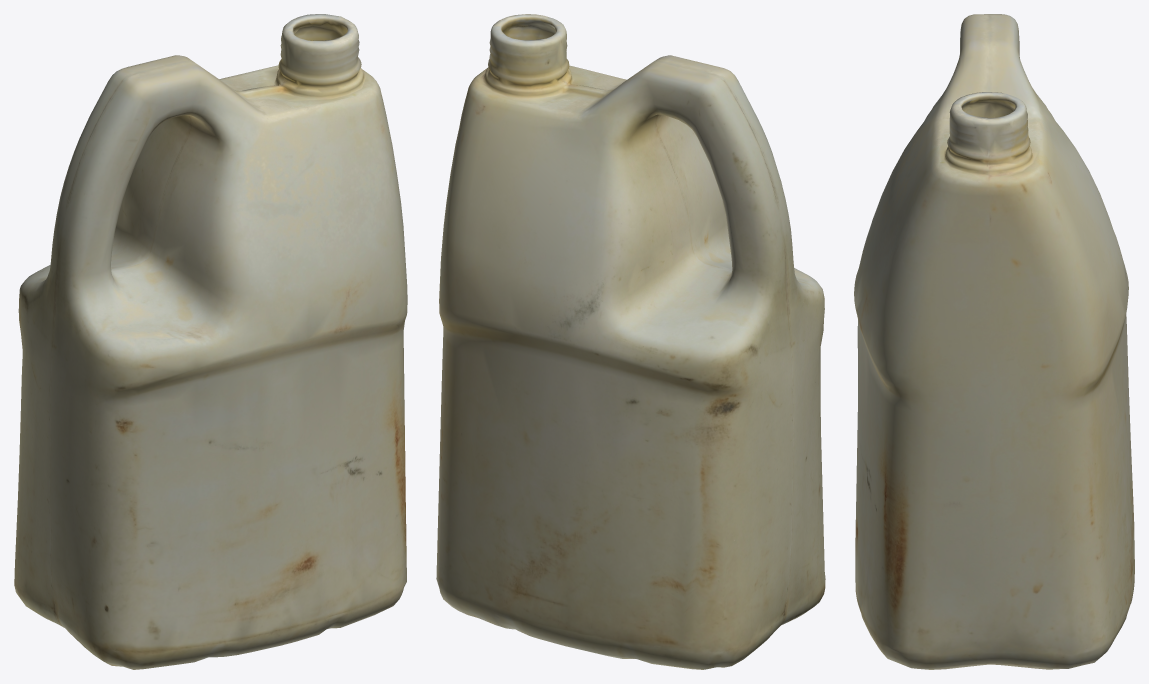
Rendered from plastic_bottle_gallon.glb.
3 renders of one model, left to right at view 1: azimuth 30°, elevation 25°; view 2: azimuth 150°, elevation 25°; view 3: azimuth 270°, elevation 25°, orthographic.
Visible parts, largest first — view 1: plastic_bottle_gallon; view 2: plastic_bottle_gallon; view 3: plastic_bottle_gallon.
Boxes of the visible parts, <box> form: plastic_bottle_gallon: <box>14,14,407,669</box>; plastic_bottle_gallon: <box>436,14,825,669</box>; plastic_bottle_gallon: <box>854,14,1134,669</box>.
Size of the model in its own units: 0.1662 by 0.2745 by 0.1263.
1 material, 1 textured.
